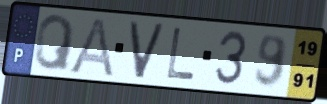3: (213, 29, 248, 88)
9: (253, 32, 288, 91)
A: (65, 15, 116, 79)
L: (164, 25, 198, 83)
Q: (33, 13, 77, 73)
V: (128, 20, 167, 81)
